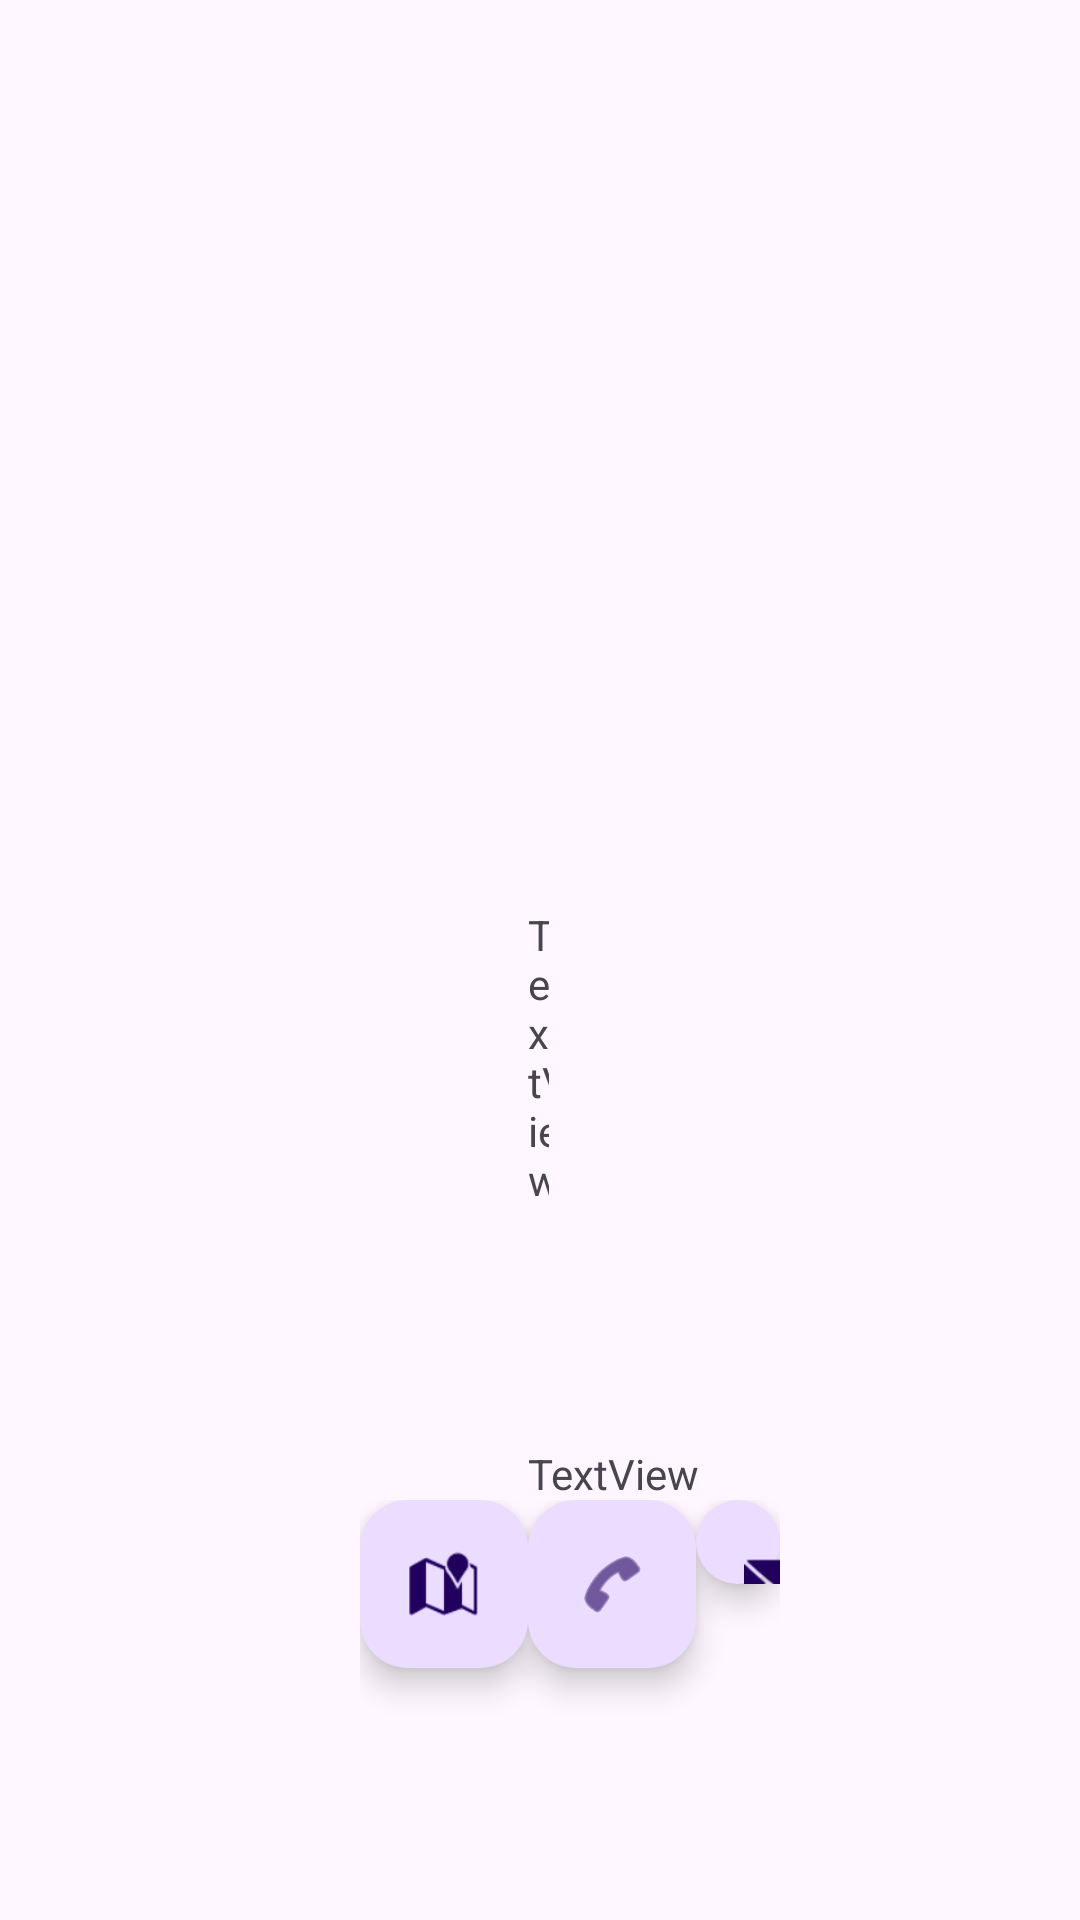

Screen size 1080px×1920px. Icon name, then its center in pixels as point (x, y):
call: point (612, 1584)
map: point (444, 1584)
